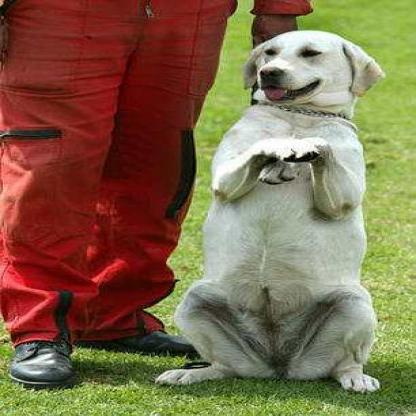Labarador Retriever: (155, 28, 386, 397)
